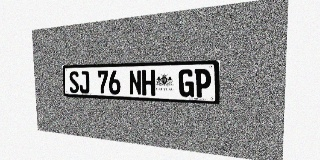6: (108, 70, 121, 95)
7: (97, 70, 109, 94)
G: (179, 69, 194, 97)
H: (142, 70, 155, 96)
J: (79, 71, 90, 93)
N: (129, 70, 142, 95)
P: (195, 69, 211, 98)
S: (69, 71, 79, 93)
